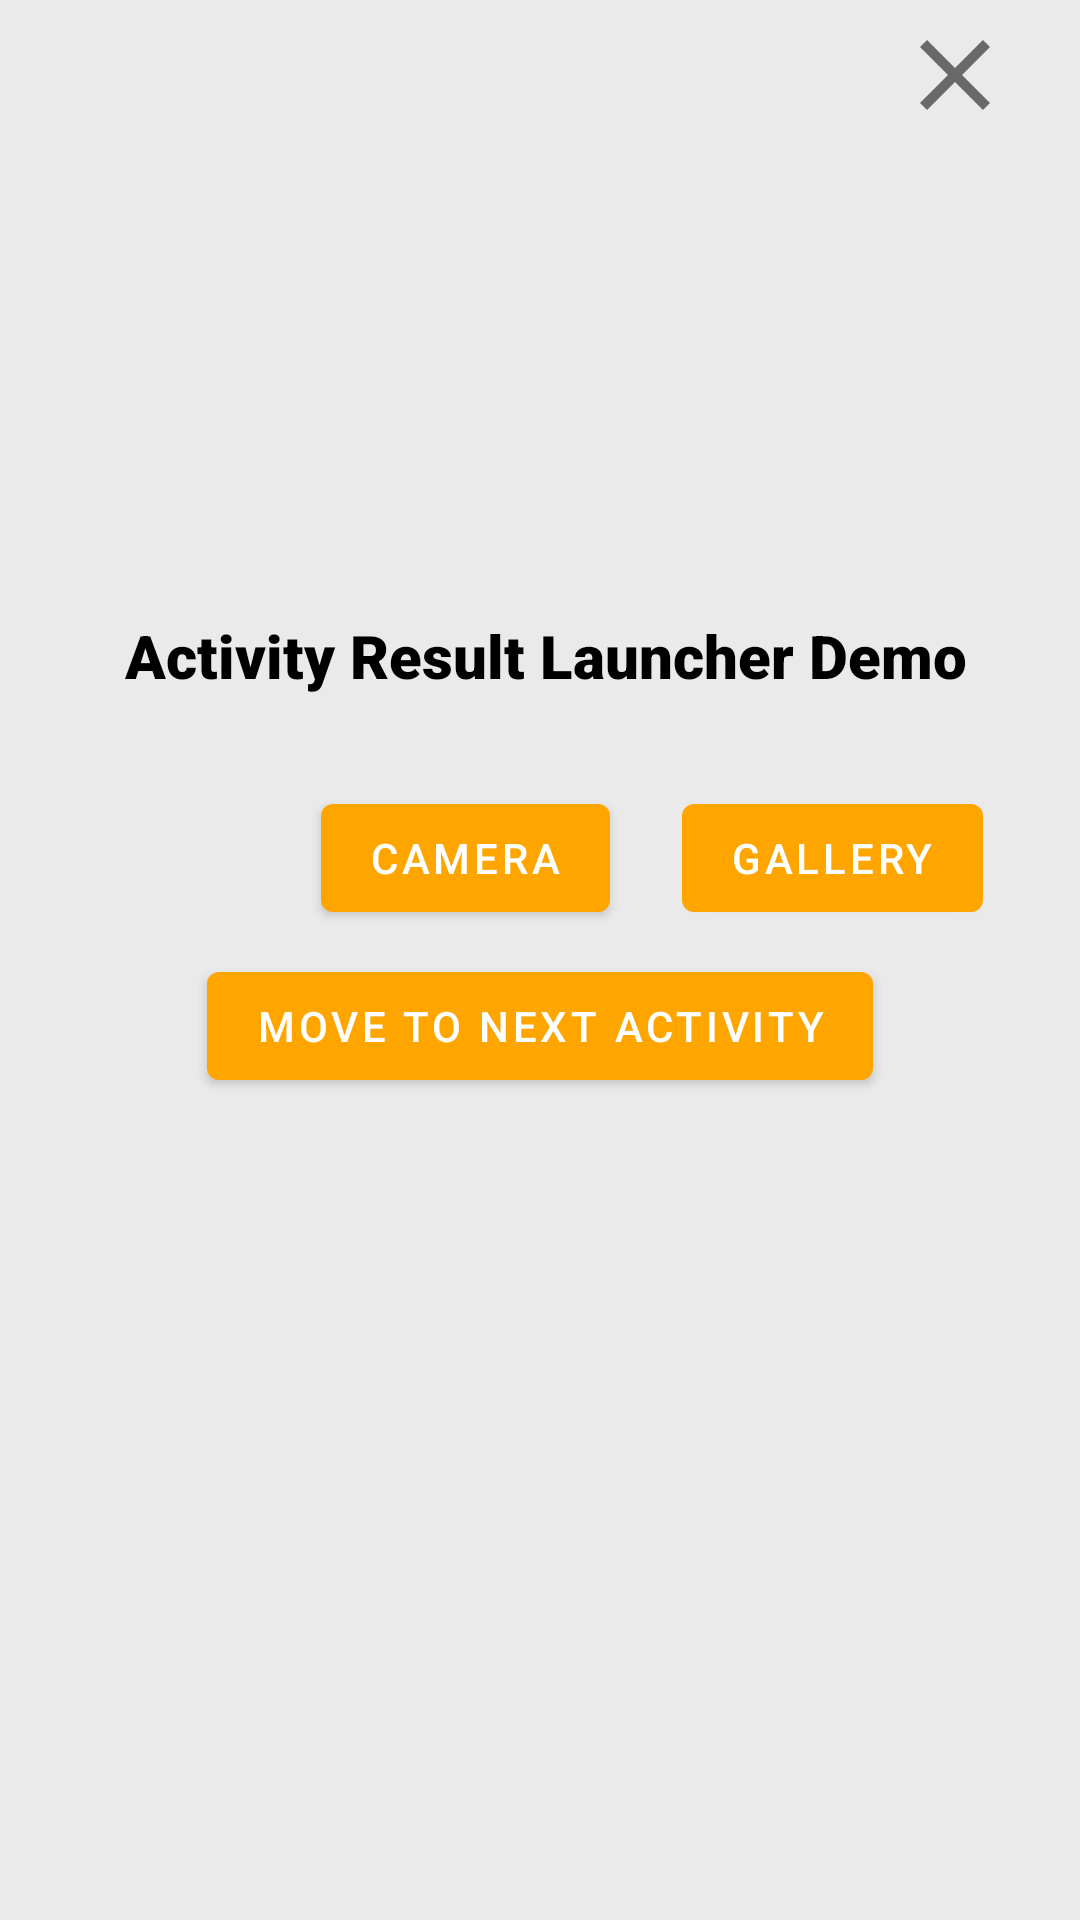

Icons on this 1080px x 1920px Android screen, each with the point to tap as point (x, y):
close: point (955, 75)
